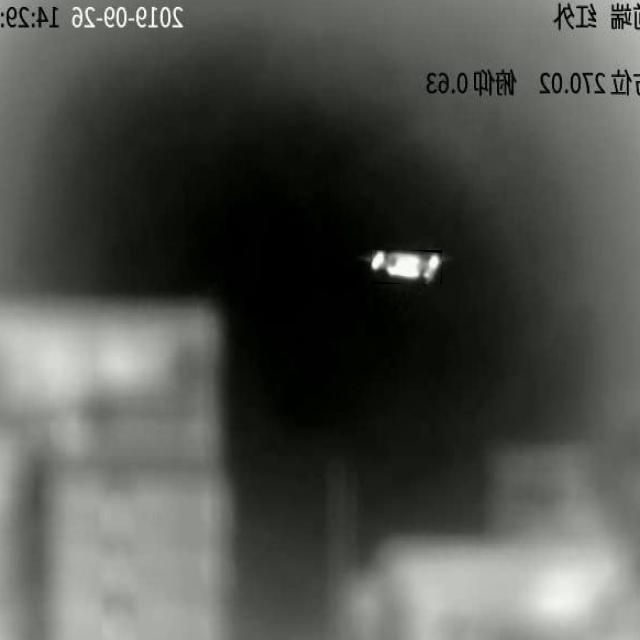drone: (371, 251, 442, 284)
